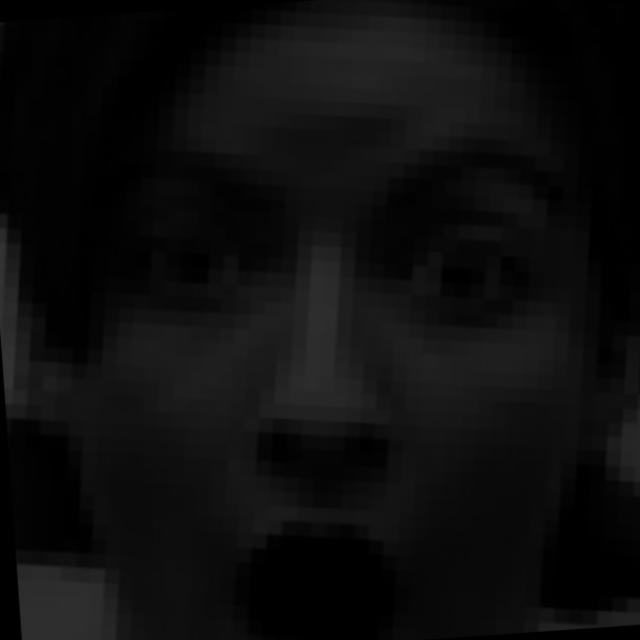Surprised: (95, 62, 598, 605)
